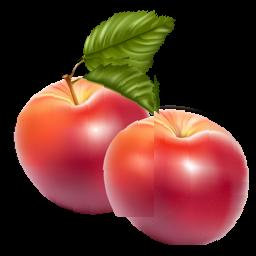Apple Fresh: (83, 100, 256, 245), (11, 52, 155, 217)
